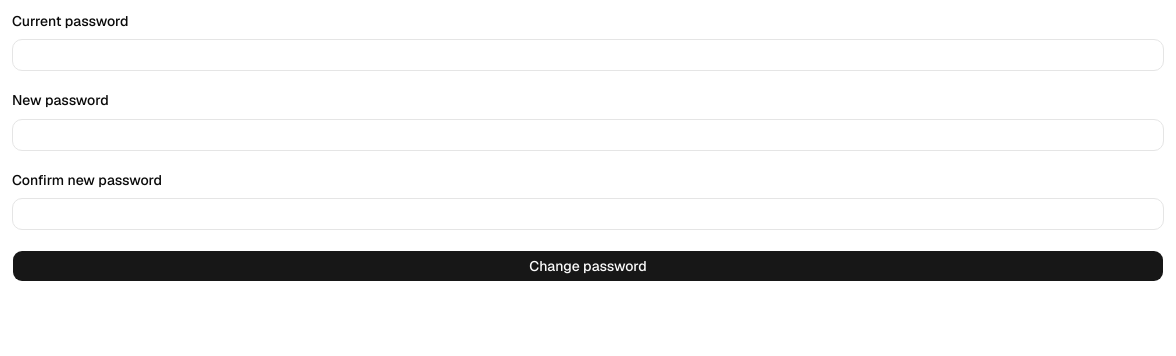
Test: ChangePasswordForm › shows weak-password errors from the server
Type "old-pass-123" into the password field labelled "Current password" at (588, 55), box [12, 39, 1164, 71]
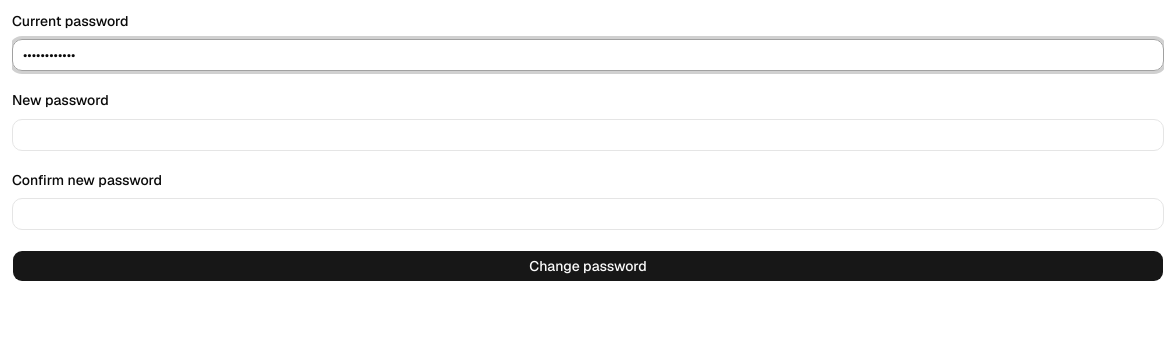
Type "short" into the password field labelled "New password" at (588, 134), box [12, 118, 1164, 150]
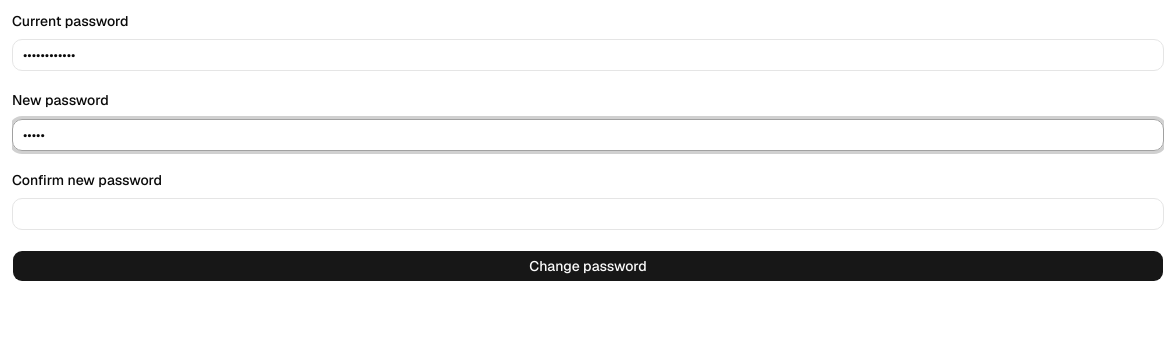
Type "short" into the password field labelled "Confirm new password" at (588, 214), box [12, 198, 1164, 230]
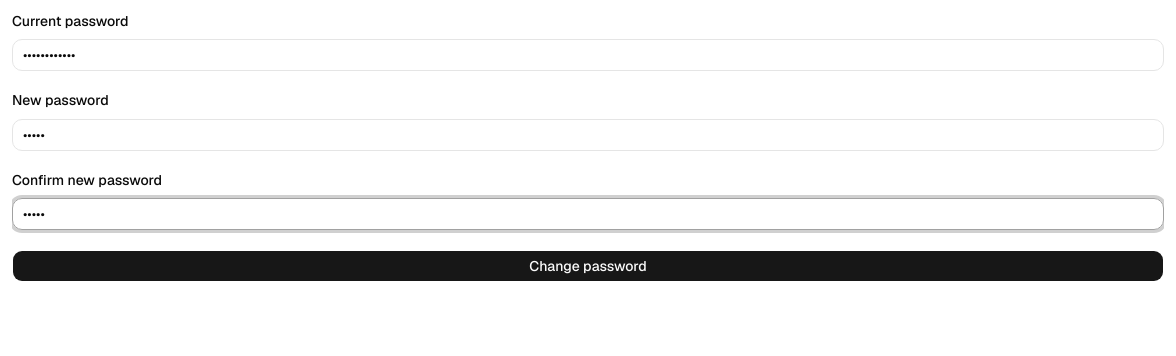
Click the button "Change password" at (588, 266), box [12, 250, 1164, 282]
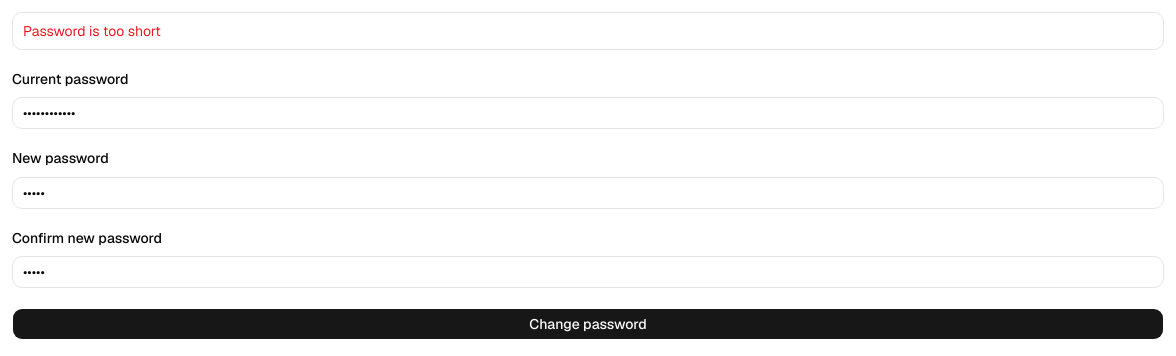
Now the text "Password is too short" is shown, box [23, 22, 161, 40]
